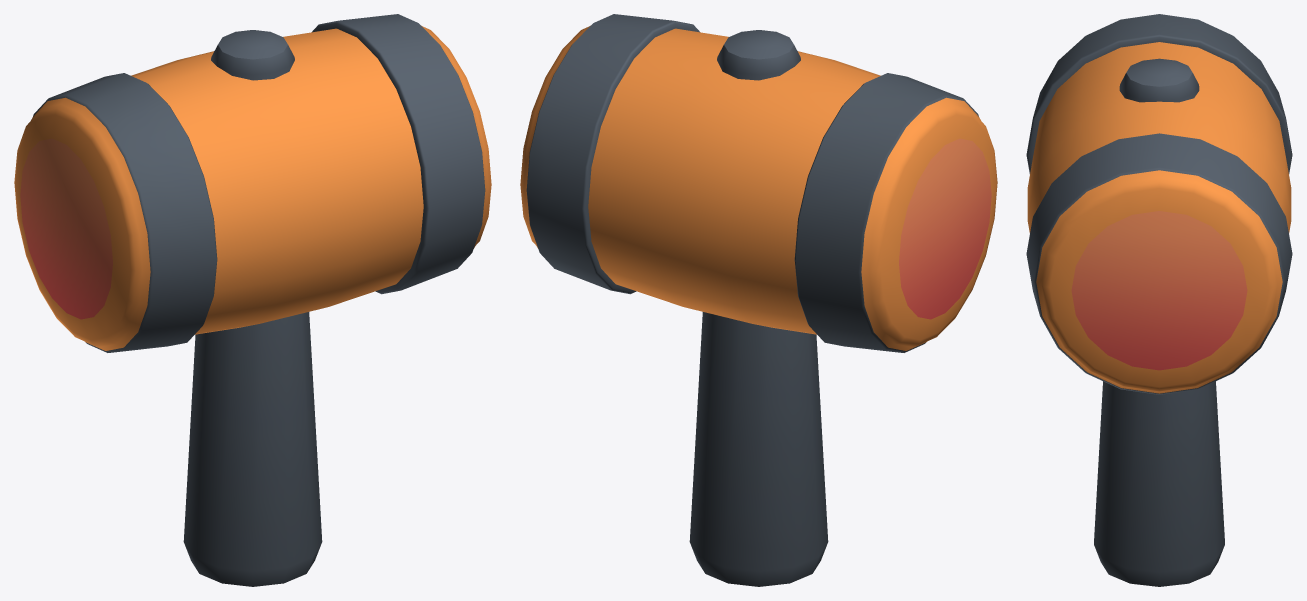
Rendered from Hammer_01.fbx.
3 renders of one model, left to right at view 1: azimuth 30°, elevation 25°; view 2: azimuth 150°, elevation 25°; view 3: azimuth 270°, elevation 25°, orthographic. The views are drawn at different scales.
Parts seen in each view (by area): view 1: Hammer_01; view 2: Hammer_01; view 3: Hammer_01.
Part boxes in pixels (x1,y1,x2,y2): Hammer_01: (14, 14, 491, 586); Hammer_01: (520, 14, 997, 586); Hammer_01: (1026, 14, 1292, 586).
Size of the model in its own units: 0.5596 by 0.7348 by 0.3531.
